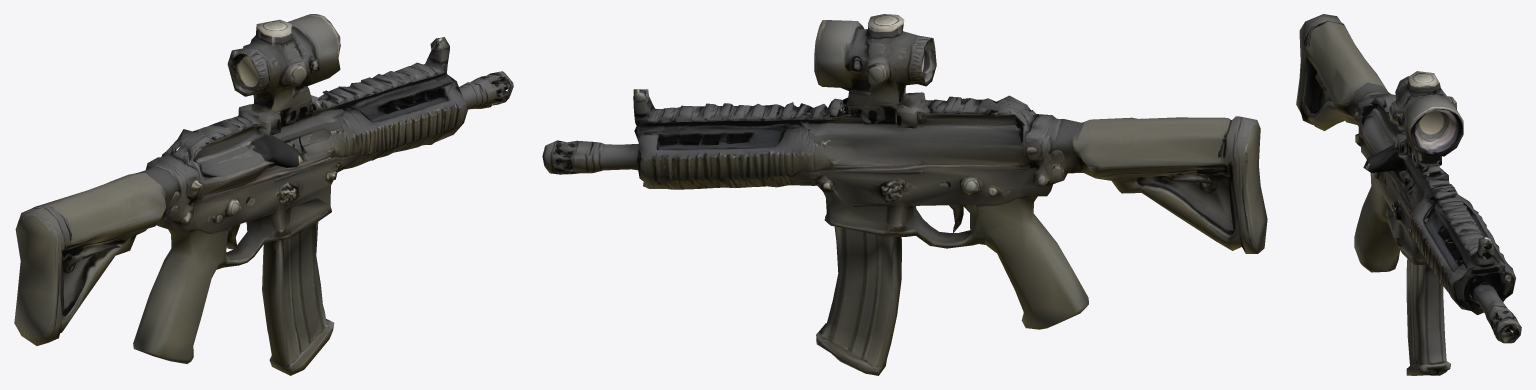
File: carbine_optic.glb
The picture shows the model from 3 angles, left to right: view 1: azimuth 30°, elevation 25°; view 2: azimuth 150°, elevation 25°; view 3: azimuth 270°, elevation 25°; orthographic projection. The views are drawn at different scales.
Parts seen in each view (by area): view 1: tripo_node_c7df0af4-9330-46f3-af0d-76e5e1caebea; view 2: tripo_node_c7df0af4-9330-46f3-af0d-76e5e1caebea; view 3: tripo_node_c7df0af4-9330-46f3-af0d-76e5e1caebea.
Boxes of the visible parts, bbox=[...] form: tripo_node_c7df0af4-9330-46f3-af0d-76e5e1caebea: bbox=[14, 14, 513, 375]; tripo_node_c7df0af4-9330-46f3-af0d-76e5e1caebea: bbox=[542, 14, 1267, 375]; tripo_node_c7df0af4-9330-46f3-af0d-76e5e1caebea: bbox=[1296, 14, 1521, 375].
Size of the model in its own units: 1 by 0.5577 by 0.3875.
1 material, 1 textured.
